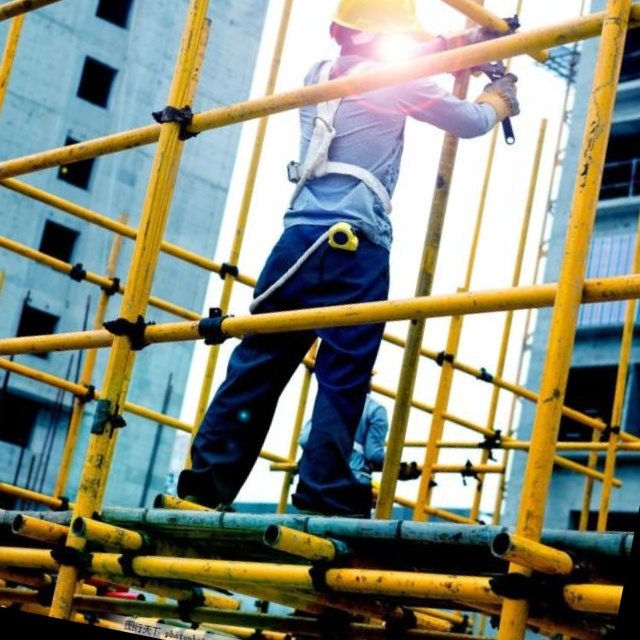Con_Casco: (321, 0, 441, 67)
